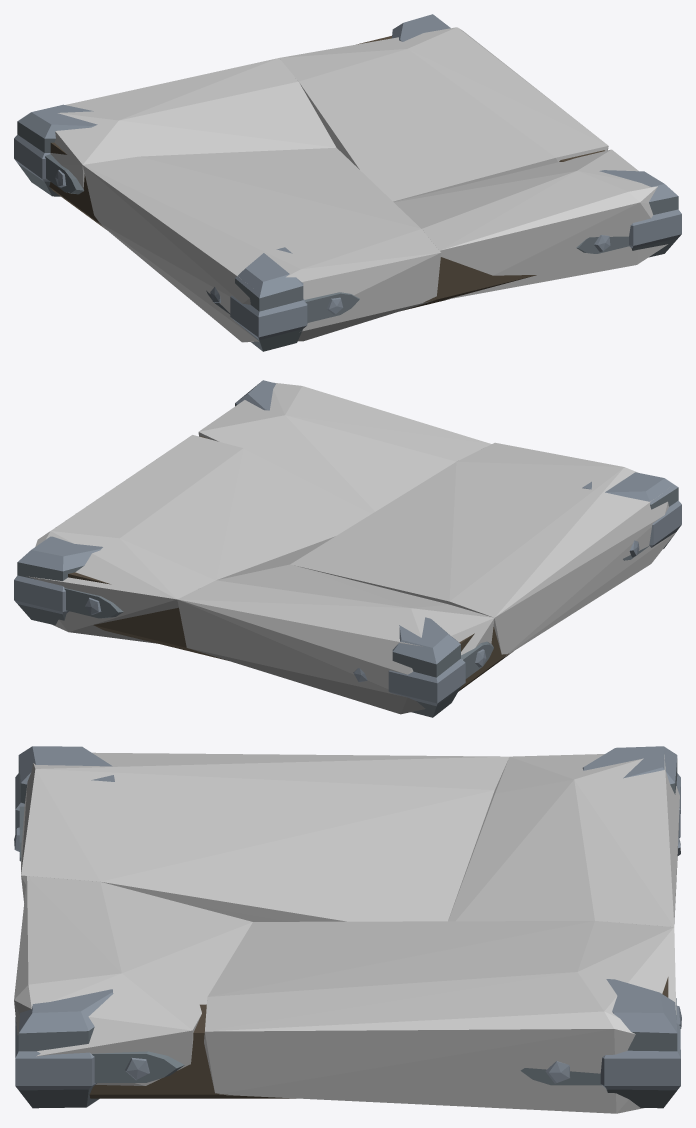
File: SM_Prop_Crate04_lid.fbx
The picture shows the model from 3 angles, top to bottom: view 1: azimuth 30°, elevation 25°; view 2: azimuth 150°, elevation 25°; view 3: azimuth 270°, elevation 25°; orthographic projection. The views are drawn at different scales.
Parts seen in each view (by area): view 1: SM_Prop_Crate04_lid_ConvexHulls, SM_Prop_Crate04_lid; view 2: SM_Prop_Crate04_lid_ConvexHulls, SM_Prop_Crate04_lid; view 3: SM_Prop_Crate04_lid_ConvexHulls, SM_Prop_Crate04_lid.
Boxes of the visible parts, x1=… form: SM_Prop_Crate04_lid_ConvexHulls: x1=50, y1=27, x2=667, y2=342; SM_Prop_Crate04_lid: x1=14, y1=14, x2=681, y2=351; SM_Prop_Crate04_lid_ConvexHulls: x1=26, y1=382, x2=675, y2=714; SM_Prop_Crate04_lid: x1=14, y1=380, x2=681, y2=717; SM_Prop_Crate04_lid_ConvexHulls: x1=14, y1=752, x2=679, y2=1113; SM_Prop_Crate04_lid: x1=14, y1=746, x2=681, y2=1108.
Bounding box in the file's own units: 91.02 × 91.02 × 15.25.
2 materials, 1 textured.
